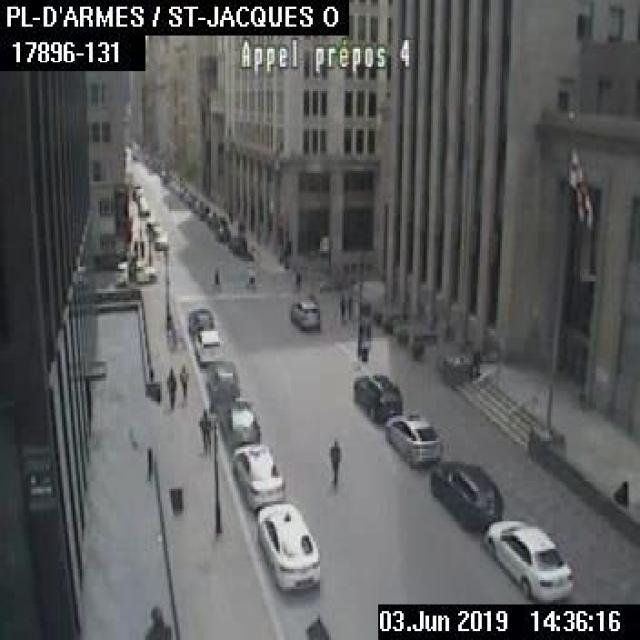pedestrian: (197, 407, 211, 458), (327, 436, 340, 486), (164, 364, 175, 406), (177, 362, 188, 402), (244, 266, 255, 289), (337, 291, 344, 319), (293, 265, 300, 291), (346, 294, 352, 319), (212, 267, 218, 289), (131, 236, 137, 258), (138, 236, 143, 258)
vehicle: (484, 518, 573, 602), (255, 500, 319, 591), (428, 458, 500, 528), (230, 441, 284, 508), (383, 409, 440, 464), (351, 372, 401, 422), (214, 395, 258, 445), (204, 358, 238, 407), (192, 327, 222, 365), (288, 298, 320, 328), (112, 260, 154, 282), (187, 306, 213, 334), (152, 229, 167, 249), (213, 222, 229, 240), (230, 235, 245, 253), (130, 185, 142, 198)
